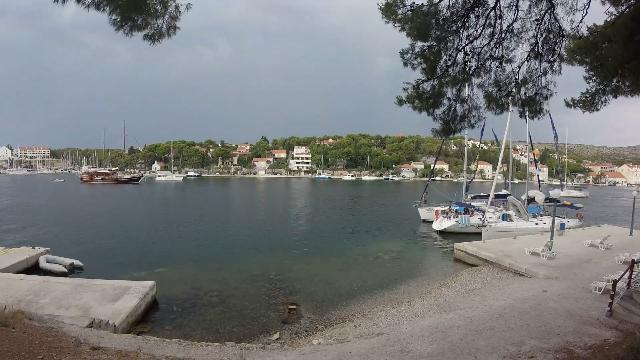Freighter: (74, 163, 148, 187)
Sailboat: (152, 169, 188, 185)
speedboat: (48, 174, 68, 184)
